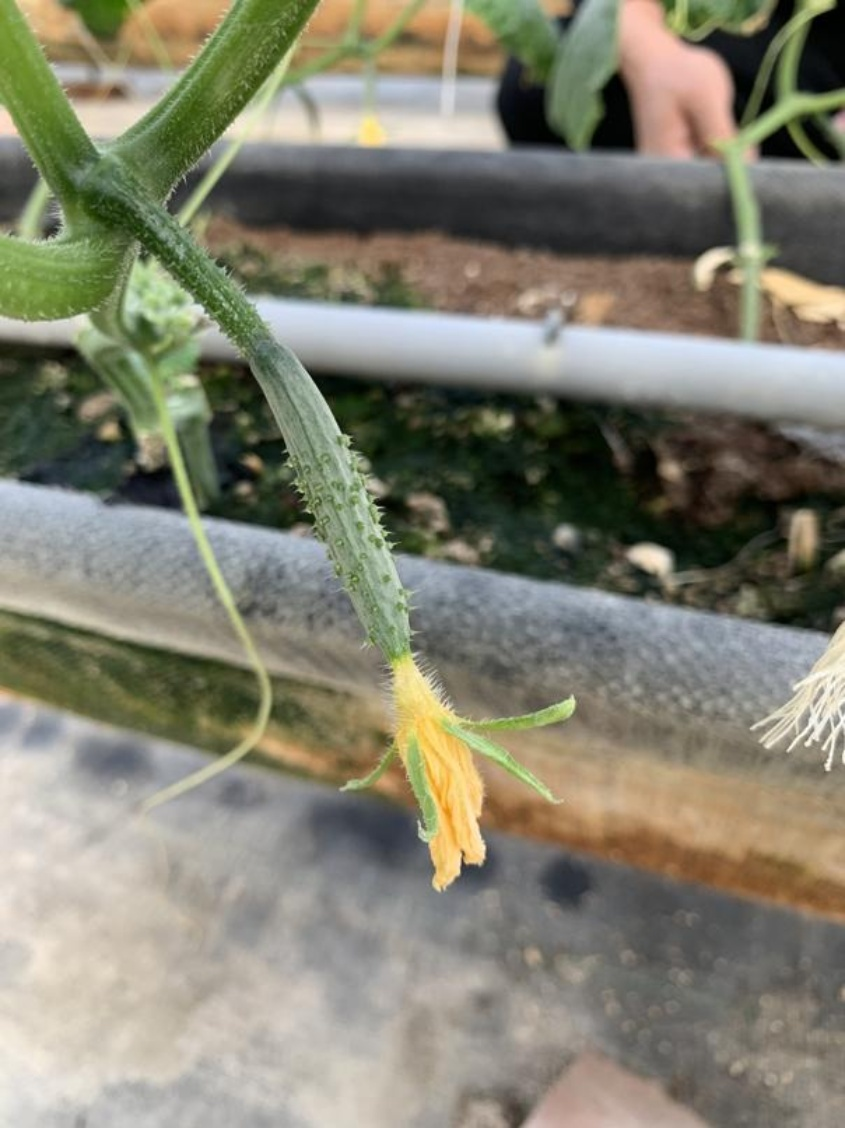bear: (162, 292, 584, 912)
